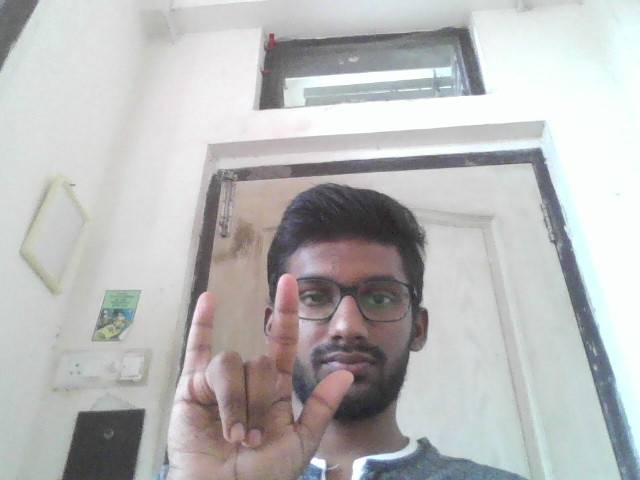I Love You: (159, 270, 356, 480)
